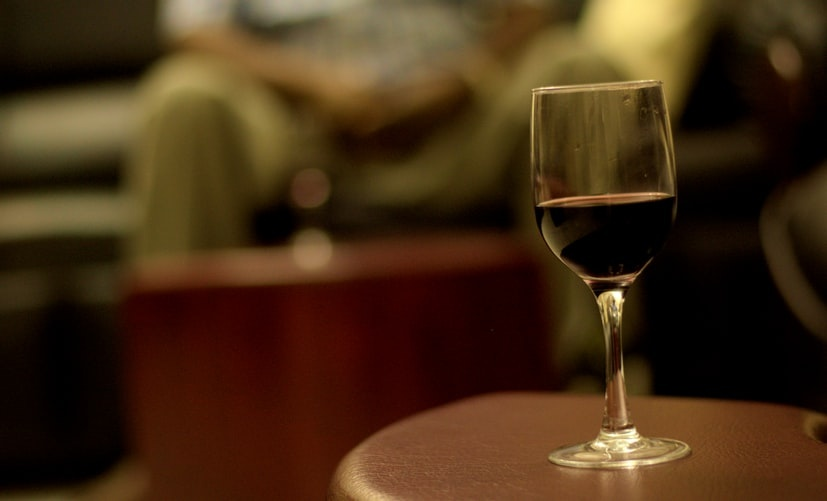whiskey: (530, 78, 678, 469)
